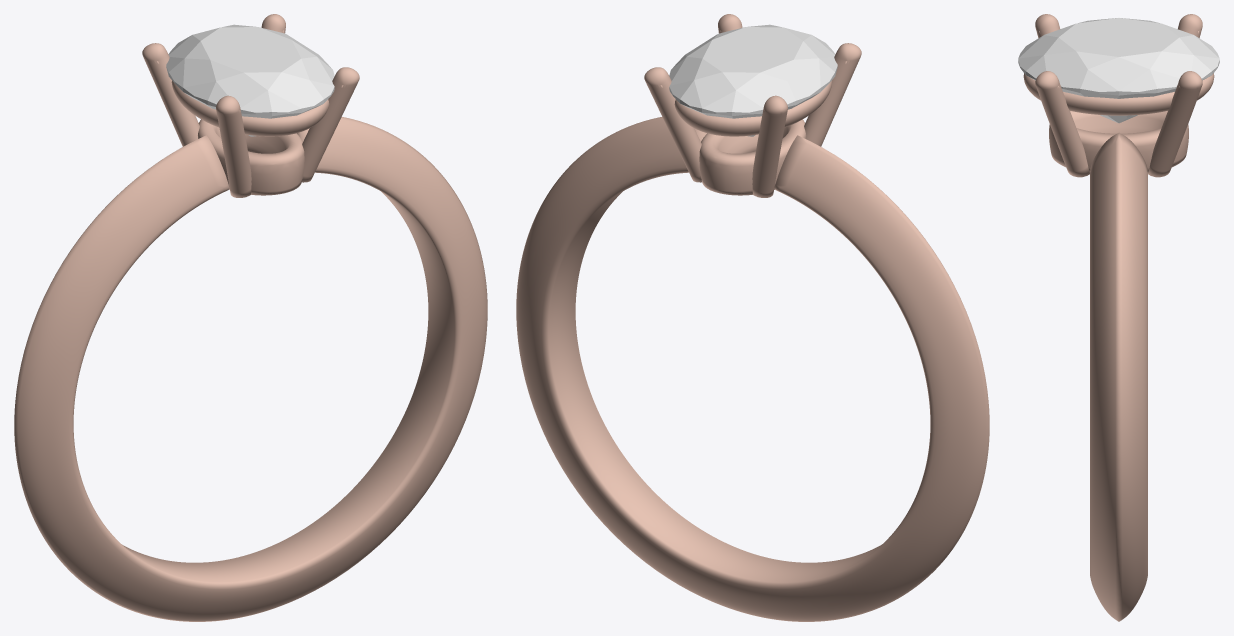
File: diamond-oval-rosegold-4prong-knifeedge-nosidestones.glb
3 renders of one model, left to right at view 1: azimuth 30°, elevation 25°; view 2: azimuth 150°, elevation 25°; view 3: azimuth 270°, elevation 25°, orthographic.
Visible parts, largest first — view 1: metal, stone; view 2: metal, stone; view 3: metal, stone.
Part boxes in pixels (<box>): metal: <box>14,14,487,621</box>; stone: <box>166,24,334,136</box>; metal: <box>516,14,989,621</box>; stone: <box>669,24,837,136</box>; metal: <box>1023,14,1214,621</box>; stone: <box>1018,18,1219,123</box>.
Bounding box in the file's own units: 20.51 × 23.4 × 7.64.
